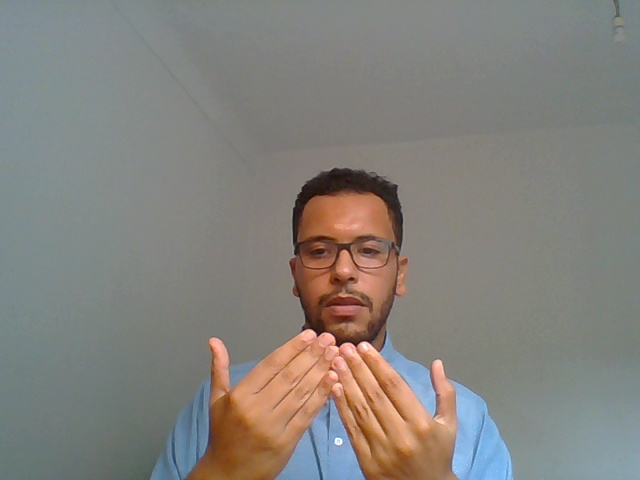thanks: (169, 314, 512, 480)
